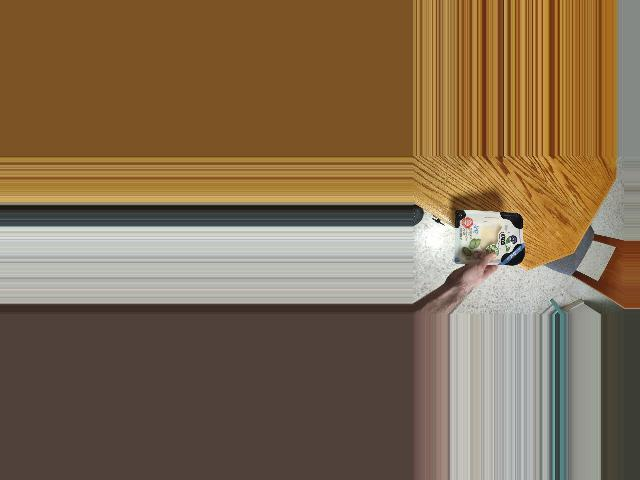cheese: (438, 210, 540, 267)
